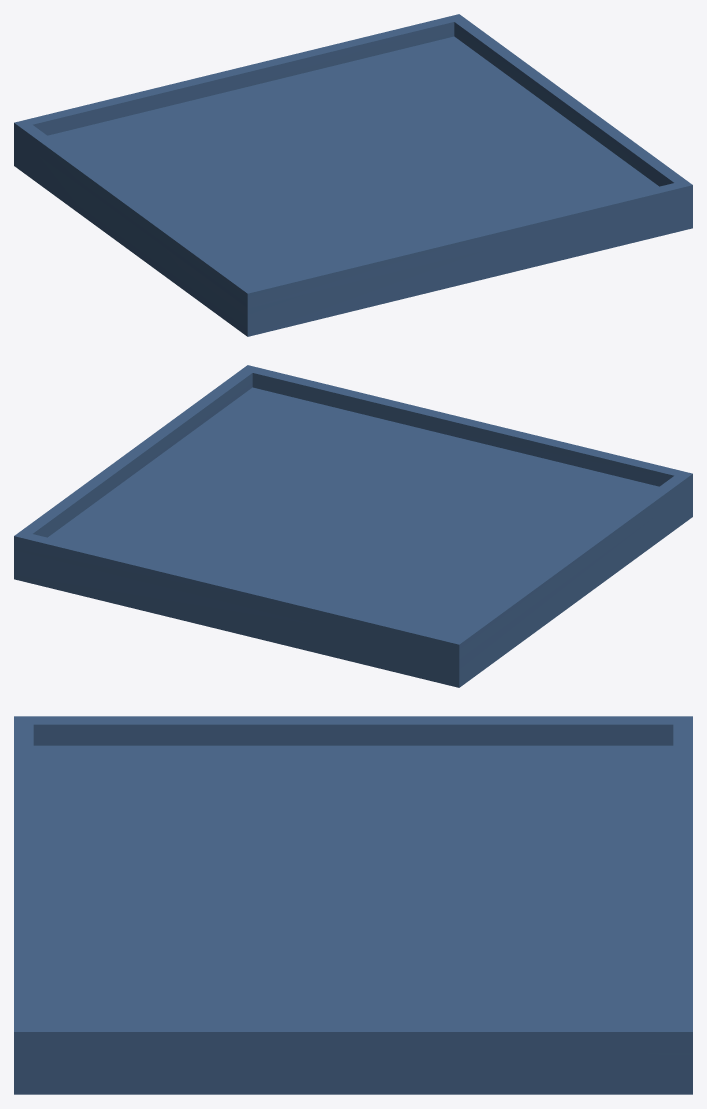
Rendered from Food tray.fbx.
The picture shows the model from 3 angles, top to bottom: view 1: azimuth 30°, elevation 25°; view 2: azimuth 150°, elevation 25°; view 3: azimuth 270°, elevation 25°; orthographic projection. The views are drawn at different scales.
Visible parts, largest first — view 1: Food Tray.001; view 2: Food Tray.001; view 3: Food Tray.001.
Part boxes in pixels (left/top/right/bottom): Food Tray.001: left=14, top=14, right=692, bottom=336; Food Tray.001: left=14, top=365, right=692, bottom=687; Food Tray.001: left=14, top=716, right=692, bottom=1094.
Size of the model in its own units: 40.06 by 3.72 by 36.41.
